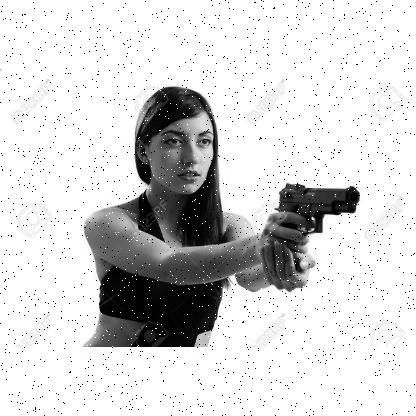gun: (270, 181, 360, 271)
